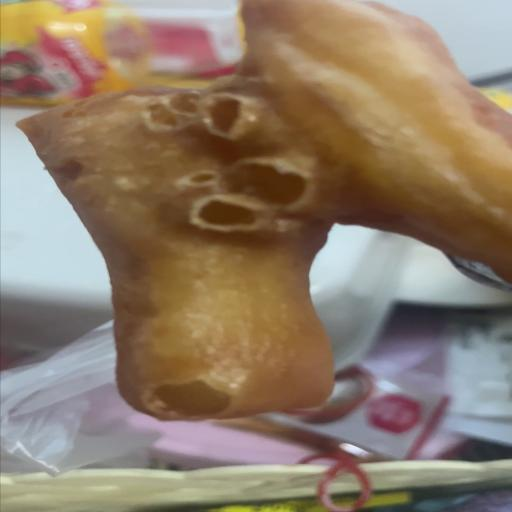street_burnt_defect: (12, 0, 509, 422)
